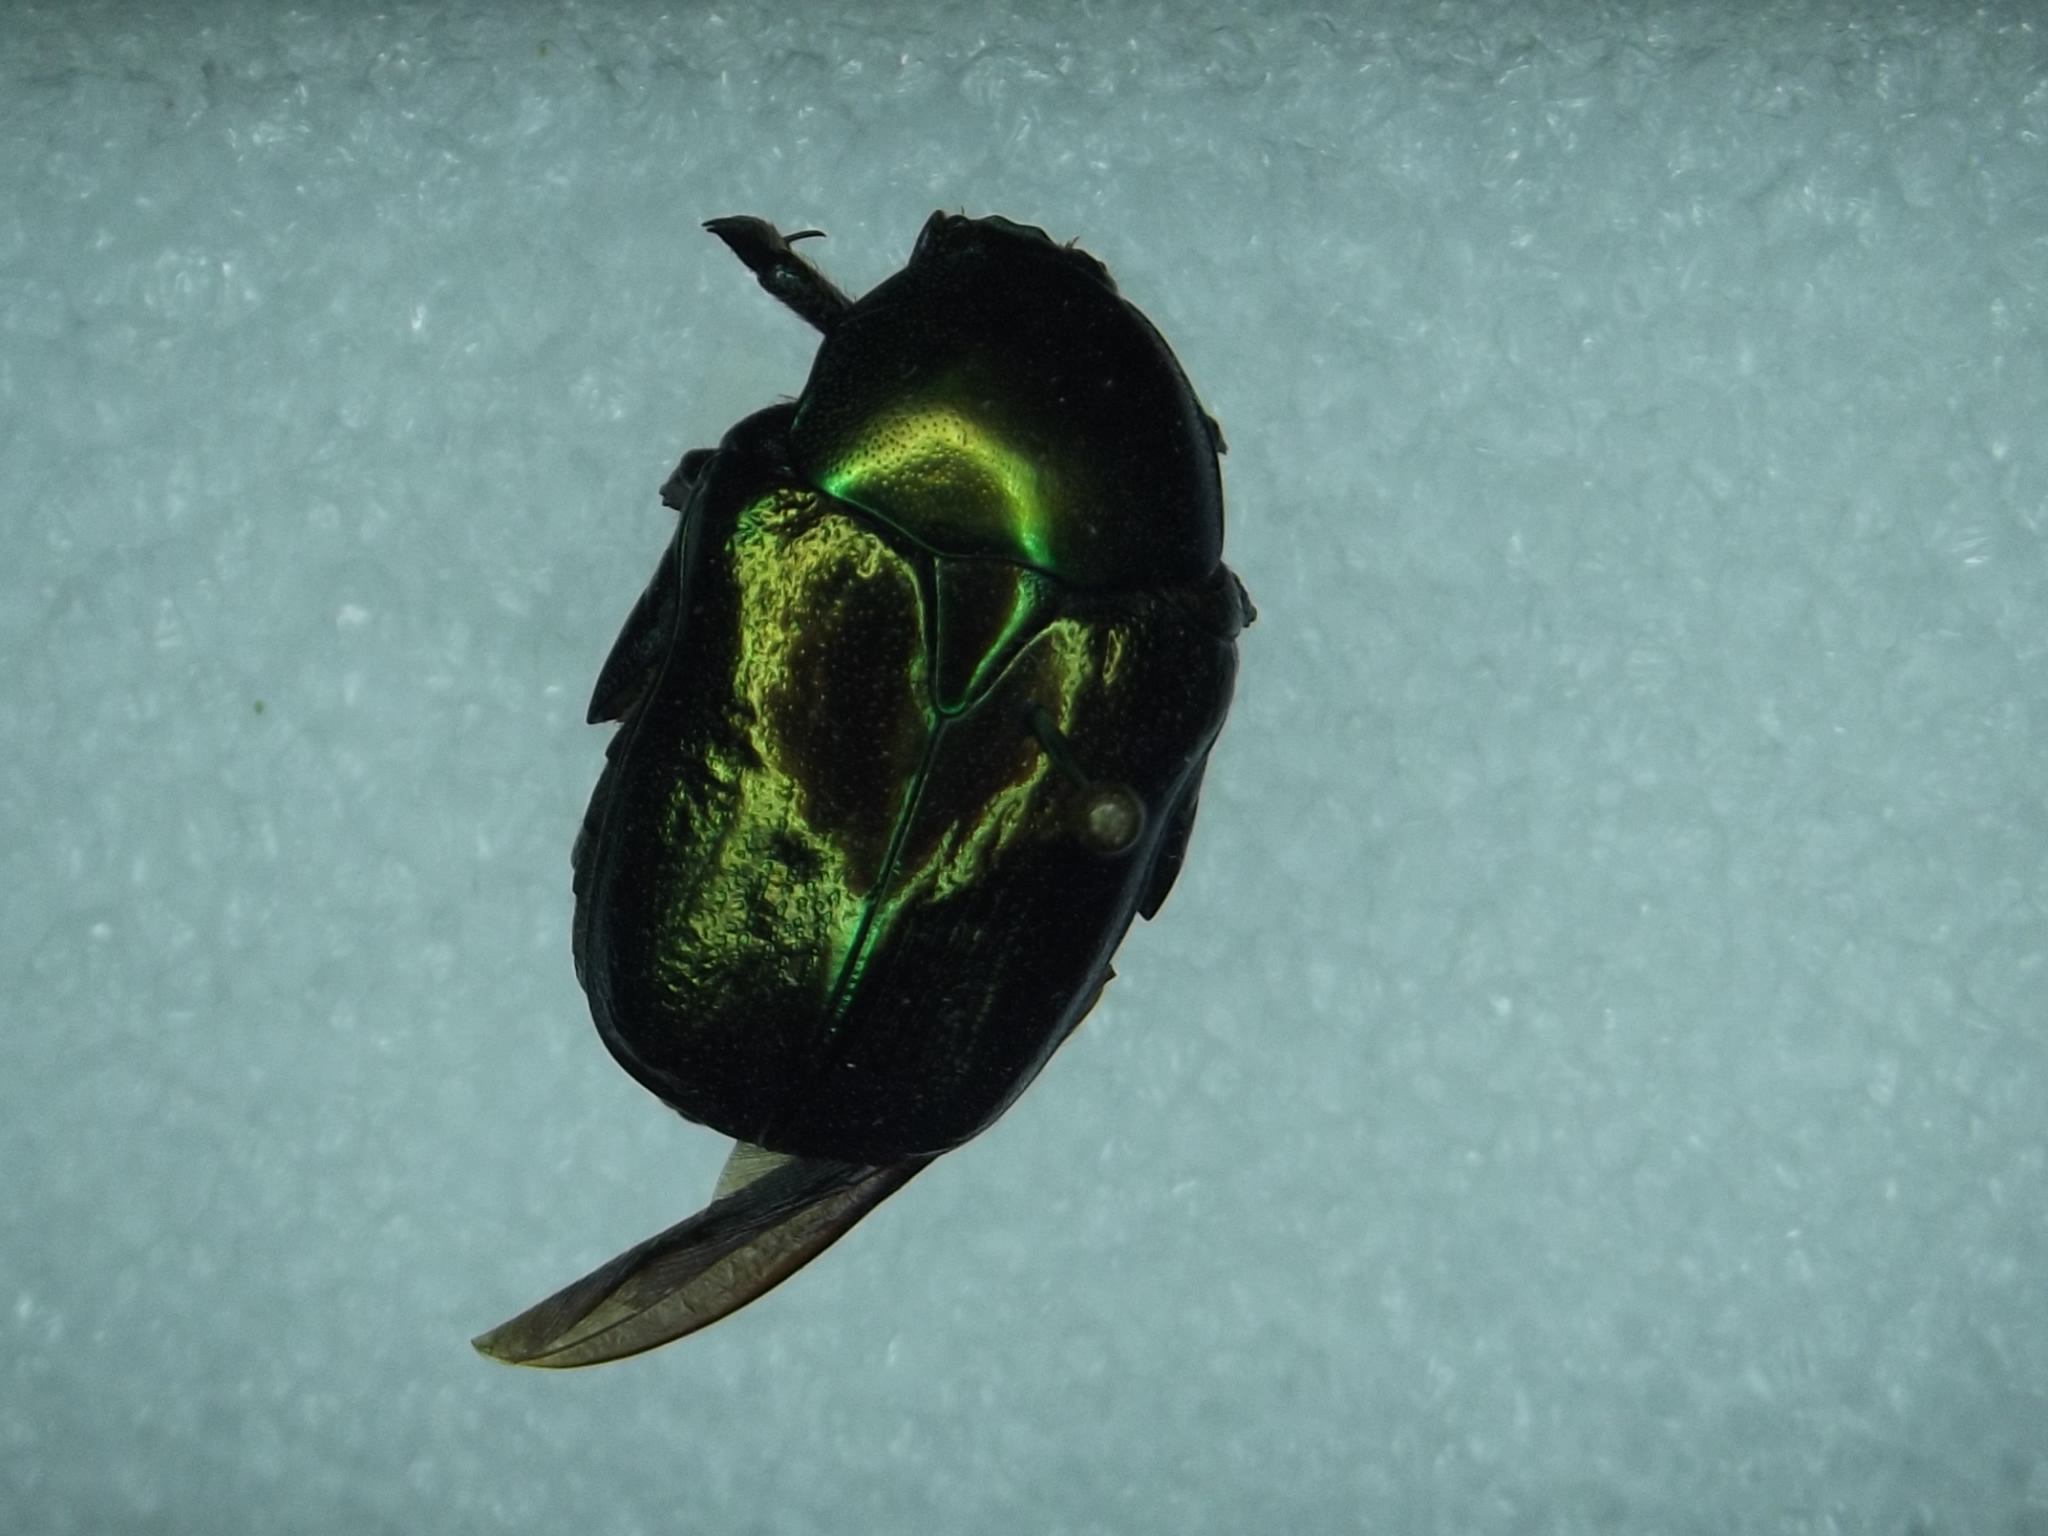Protaetia_angustata_angustata: (450, 168, 1259, 1396)
